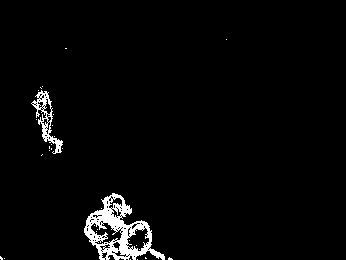person: (81, 192, 132, 258), (29, 86, 64, 157)
